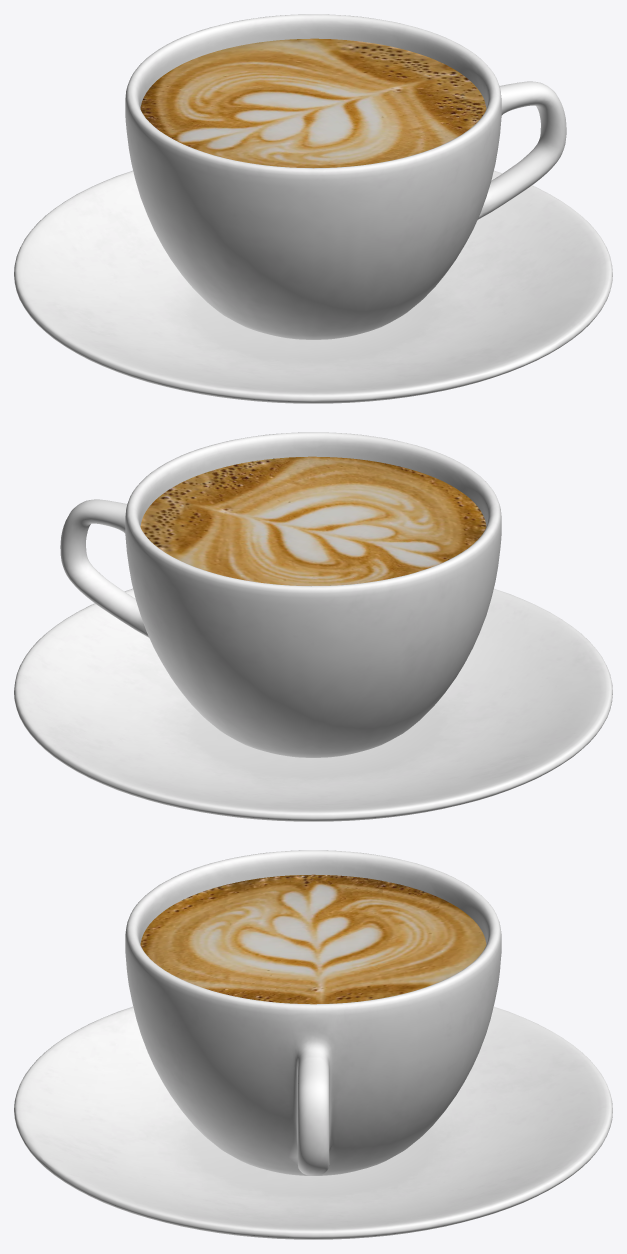
Rendered from coffee_cup.glb.
3 views of the same model, one above another, from view 1: azimuth 30°, elevation 25°; view 2: azimuth 150°, elevation 25°; view 3: azimuth 270°, elevation 25° (orthographic).
Visible parts, largest first — view 1: defaultMaterial; view 2: defaultMaterial; view 3: defaultMaterial.
Part boxes in pixels (box(x1,y1,x2,y2)): defaultMaterial: box(14, 14, 612, 403); defaultMaterial: box(14, 432, 612, 821); defaultMaterial: box(14, 850, 612, 1239).
Bounding box in the file's own units: 0.1985 × 0.085 × 0.1985.
1 material, 1 textured.
